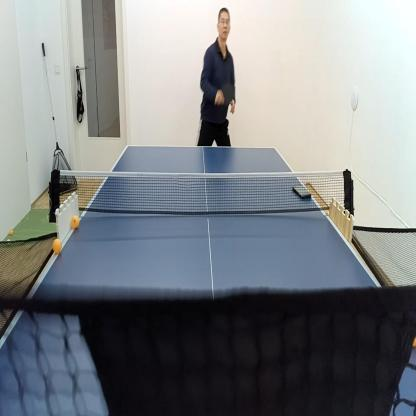Ball: (52, 237, 62, 255), (71, 214, 80, 230), (6, 238, 12, 247), (9, 228, 14, 235)
